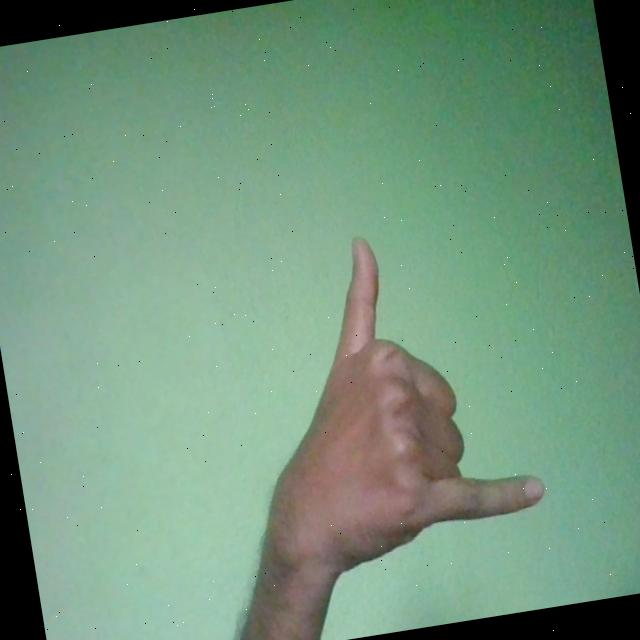Call Me: (220, 213, 553, 586)
